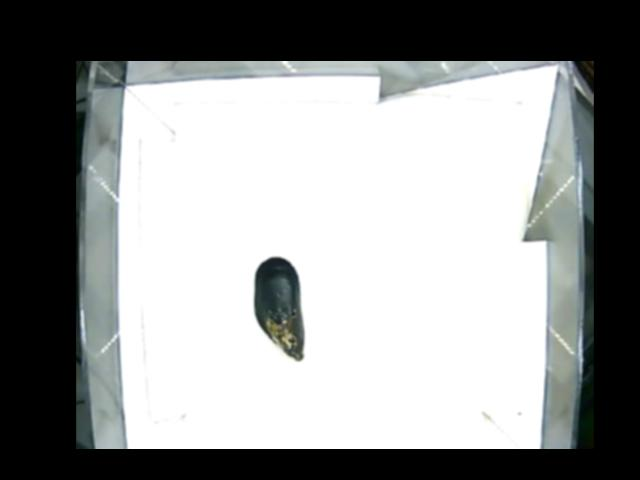Shell: (253, 256, 309, 360)
